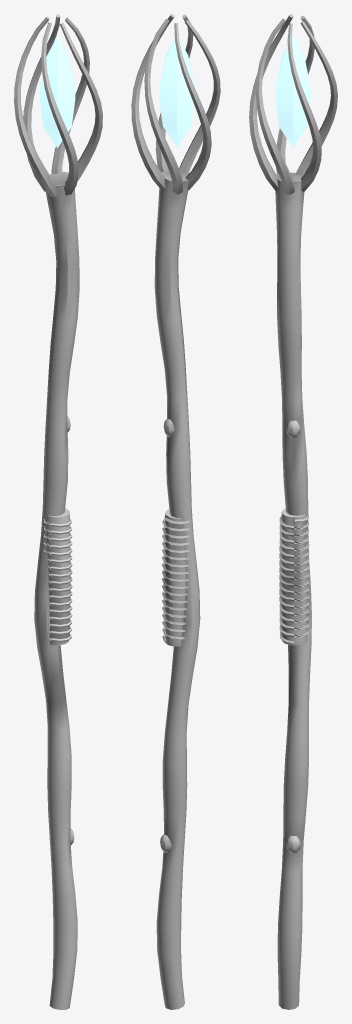
File: gnarled_staff.glb
3 views of the same model, side by side, from view 1: azimuth 30°, elevation 25°; view 2: azimuth 210°, elevation 25°; view 3: azimuth 270°, elevation 25° (orthographic).
Parts seen in each view (by area): view 1: gnarled_staff; view 2: gnarled_staff; view 3: gnarled_staff.
Boxes of the visible parts, bbox=[...] form: gnarled_staff: bbox=[14, 14, 102, 1009]; gnarled_staff: bbox=[131, 14, 220, 1009]; gnarled_staff: bbox=[249, 14, 337, 1009].
Bounding box in the file's own units: 0.1638 × 2 × 0.1635.
